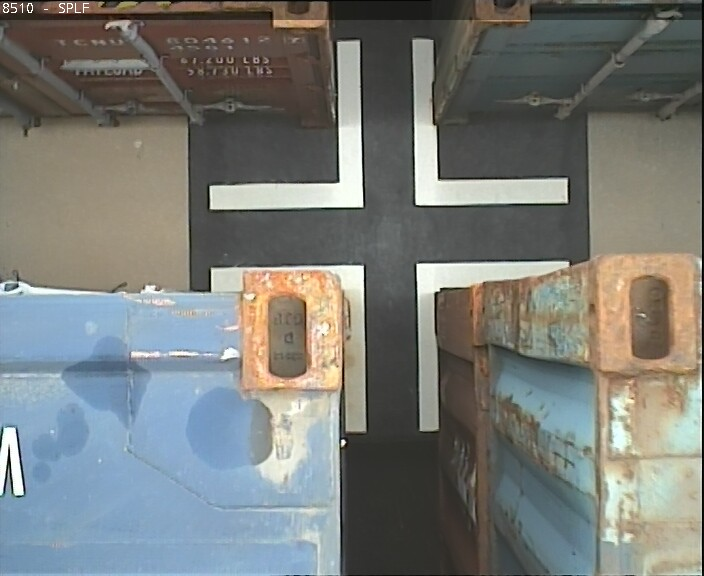groundmarker_1: (208, 36, 569, 207), (211, 260, 572, 430)
